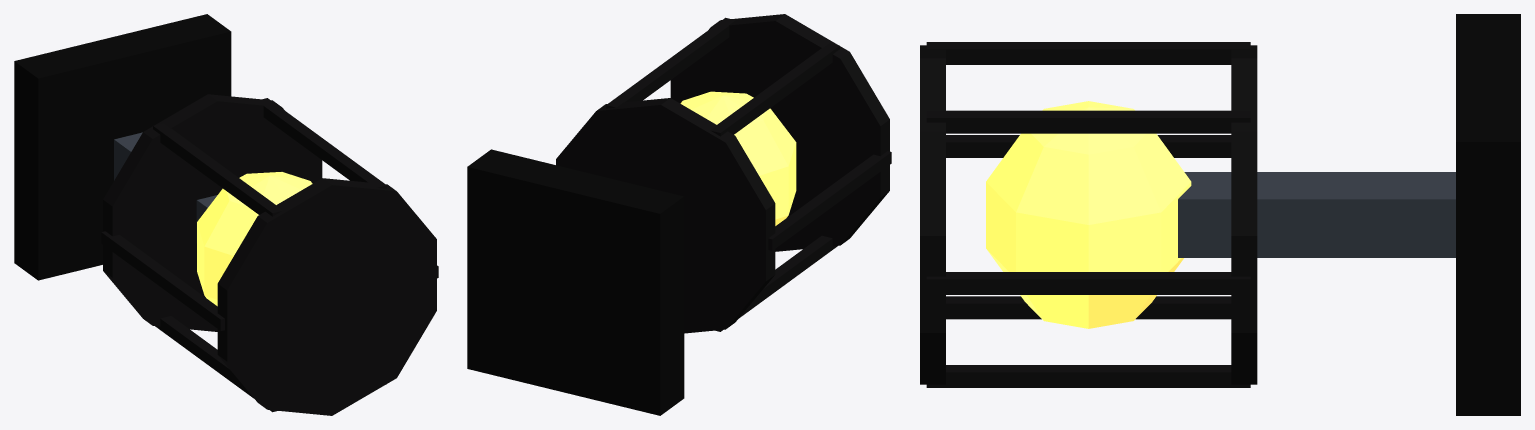
Rendered from SM_HLight_CageLamp_Wall.glb.
3 renders of one model, left to right at view 1: azimuth 30°, elevation 25°; view 2: azimuth 150°, elevation 25°; view 3: azimuth 270°, elevation 25°, orthographic. The views are drawn at different scales.
Visible parts, largest first — view 1: SM_HLight_CageLamp_Wall; view 2: SM_HLight_CageLamp_Wall; view 3: SM_HLight_CageLamp_Wall.
Boxes of the visible parts, box(x1,y1,x2,y2) form: SM_HLight_CageLamp_Wall: box(14, 14, 438, 415); SM_HLight_CageLamp_Wall: box(467, 14, 891, 415); SM_HLight_CageLamp_Wall: box(920, 14, 1520, 415).
Bounding box in the file's own units: 0.158 × 0.16 × 0.278.
